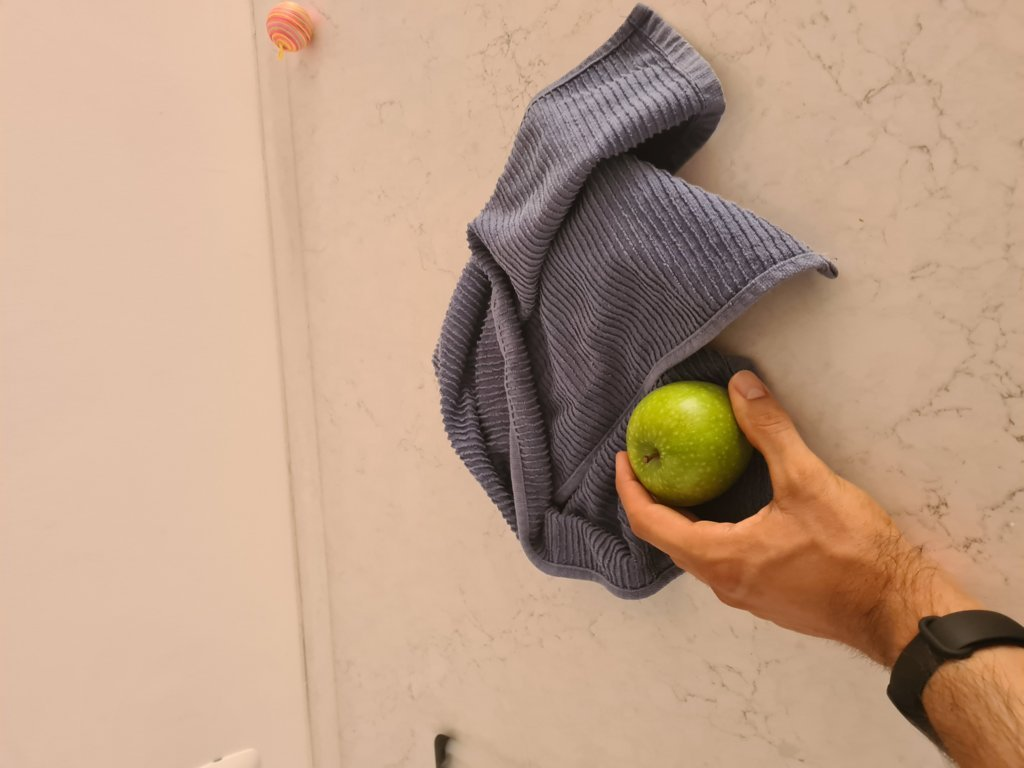apple: (621, 390, 773, 504)
